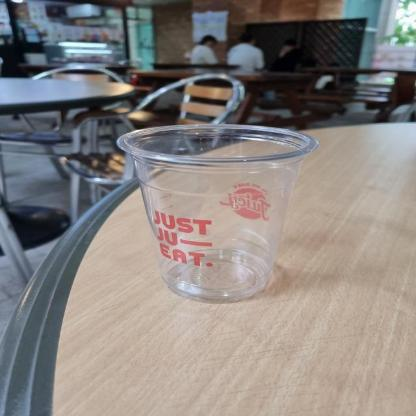Plastic Cup: (118, 123, 316, 304)
